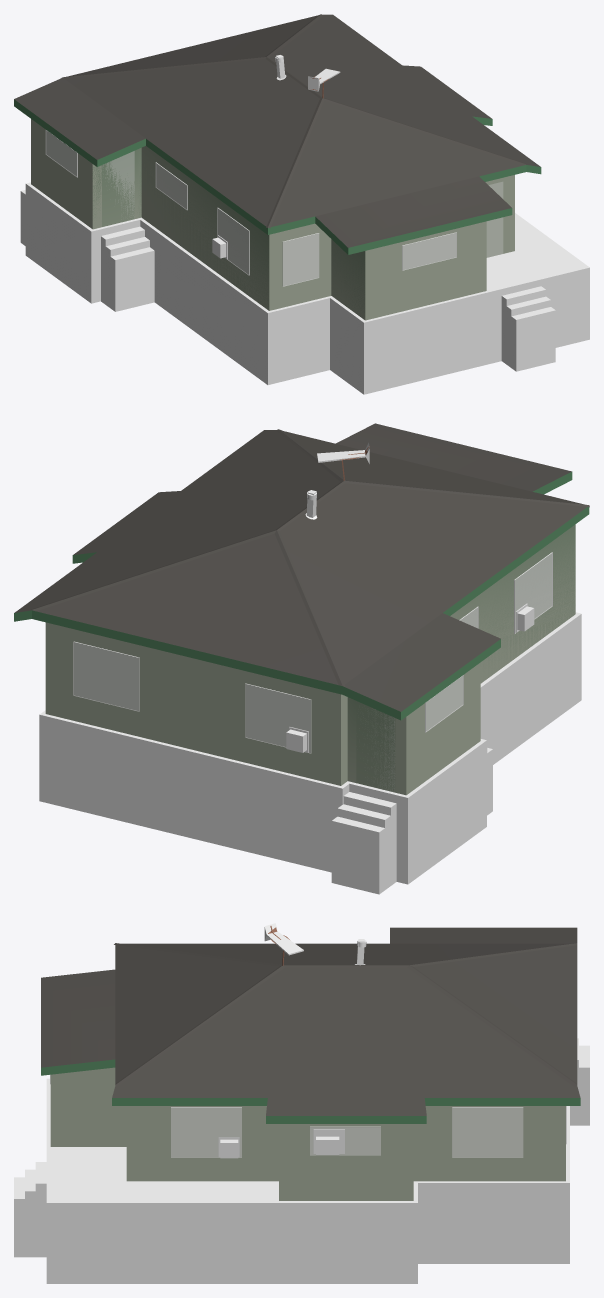
Rendered from house_small2.dae.
The picture shows the model from 3 angles, top to bottom: view 1: azimuth 30°, elevation 25°; view 2: azimuth 150°, elevation 25°; view 3: azimuth 270°, elevation 25°; orthographic projection. The views are drawn at different scales.
Parts seen in each view (by area): view 1: house_small2_a150, house_small2_a600, house_small2_a30, Colmesh-1; view 2: house_small2_a600, house_small2_a150, house_small2_a30, Colmesh-1; view 3: house_small2_a600, house_small2_a150, Colmesh-1.
Boxes of the visible parts, x1=… form: house_small2_a150: x1=14, y1=99, x2=589, y2=394; house_small2_a600: x1=14, y1=14, x2=589, y2=322; house_small2_a30: x1=31, y1=120, x2=503, y2=320; Colmesh-1: x1=214, y1=55, x2=340, y2=243; house_small2_a600: x1=14, y1=423, x2=589, y2=894; house_small2_a150: x1=73, y1=431, x2=589, y2=894; house_small2_a30: x1=341, y1=524, x2=575, y2=793; Colmesh-1: x1=286, y1=442, x2=533, y2=752; house_small2_a600: x1=14, y1=926, x2=589, y2=1283; house_small2_a150: x1=115, y1=945, x2=522, y2=1157; Colmesh-1: x1=220, y1=923, x2=364, y2=1158.
Bounding box in the file's own units: 10.64 × 13.72 × 6.89.
